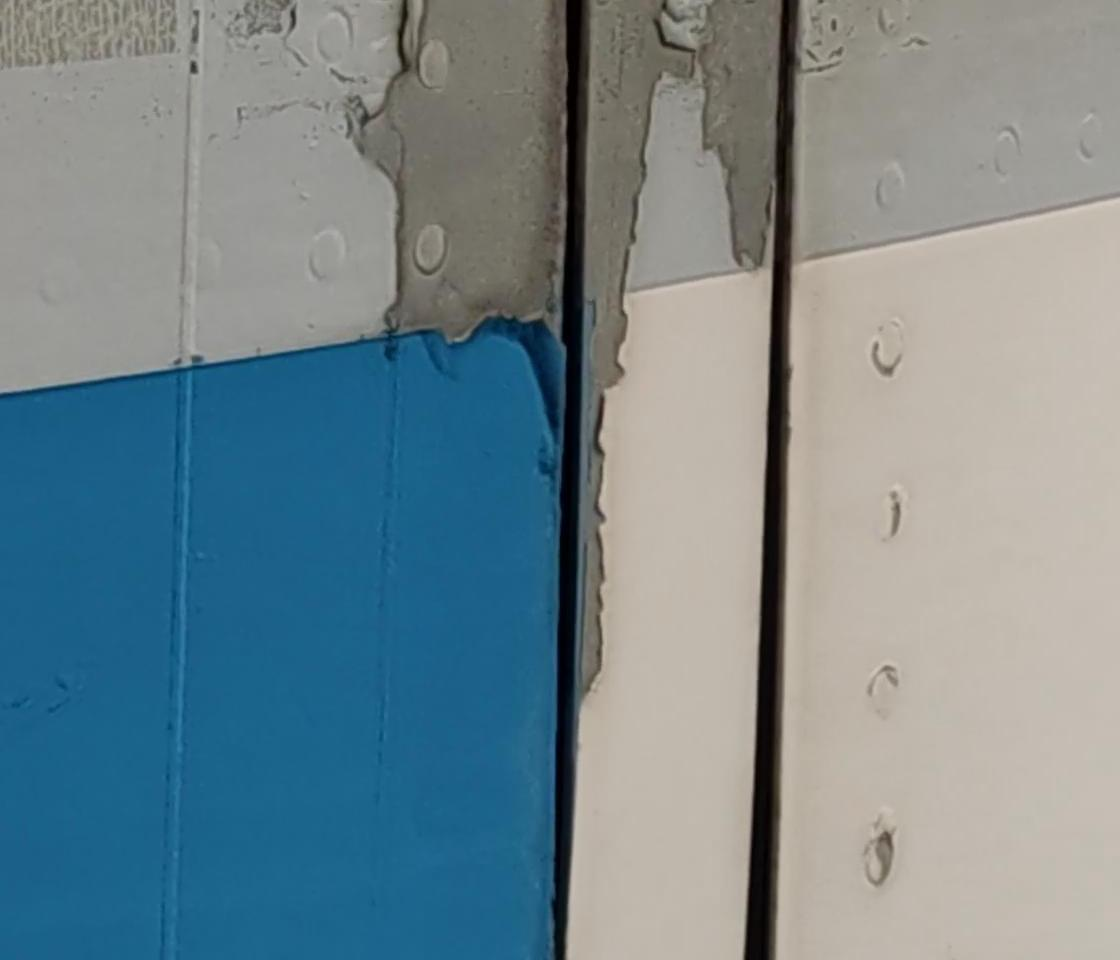scratch: (863, 337, 907, 385), (887, 484, 906, 547)
